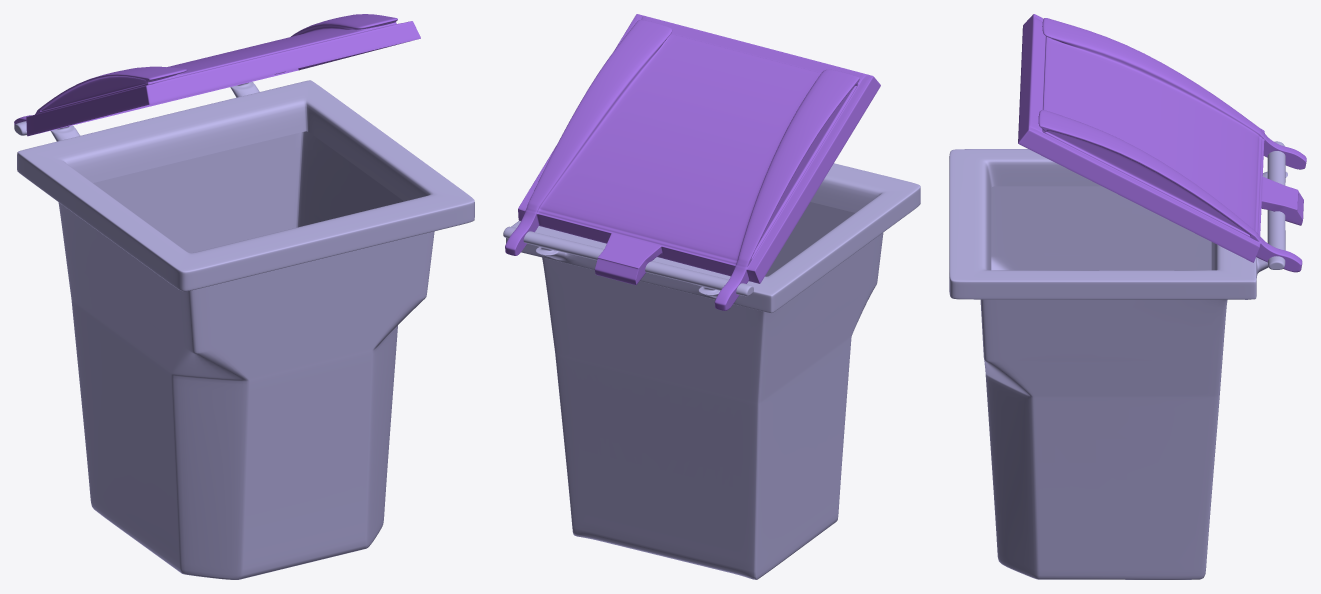
Rendered from trashcan-Nb4_VVzW.glb.
3 renders of one model, left to right at view 1: azimuth 30°, elevation 25°; view 2: azimuth 150°, elevation 25°; view 3: azimuth 270°, elevation 25°, orthographic. The views are drawn at different scales.
Visible parts, largest first — view 1: poubelle_01_1, couvercle_0; view 2: poubelle_01_1, couvercle_0; view 3: poubelle_01_1, couvercle_0.
Boxes of the visible parts, x1=… form: poubelle_01_1: x1=14, y1=73, x2=474, y2=579; couvercle_0: x1=14, y1=14, x2=420, y2=136; poubelle_01_1: x1=503, y1=163, x2=920, y2=579; couvercle_0: x1=505, y1=14, x2=880, y2=310; poubelle_01_1: x1=949, y1=141, x2=1287, y2=579; couvercle_0: x1=1018, y1=14, x2=1306, y2=272.
Bounding box in the file's own units: 1.55 × 2.53 × 1.77.
